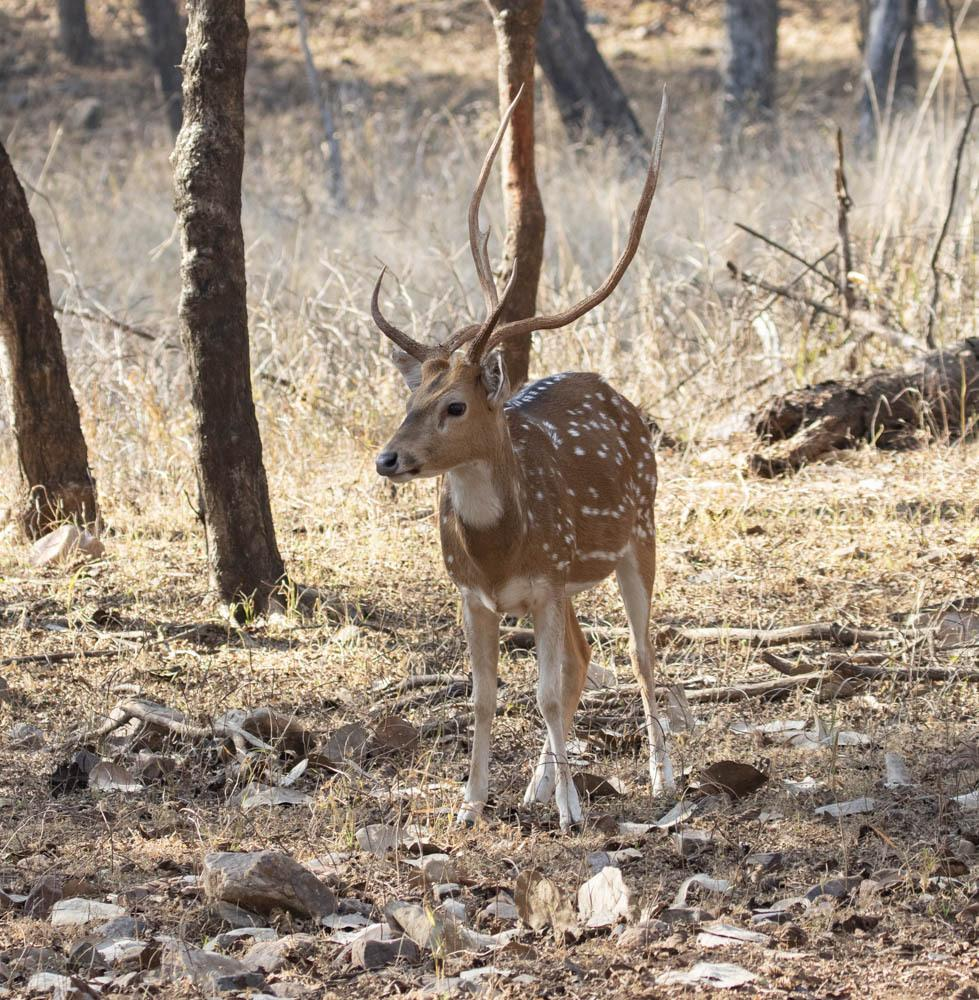Deer: (372, 95, 671, 828)
